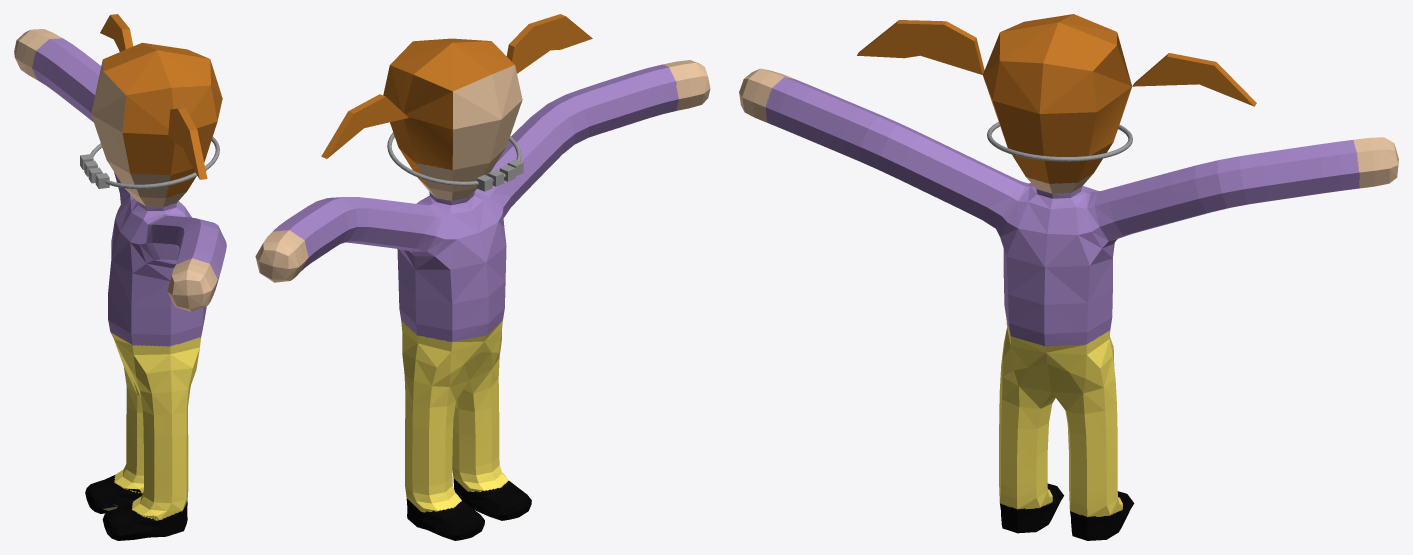
Rendered from nemo_girl.obj.
3 renders of one model, left to right at view 1: azimuth 30°, elevation 25°; view 2: azimuth 150°, elevation 25°; view 3: azimuth 270°, elevation 25°, orthographic. The views are drawn at different scales.
Visible parts, largest first — view 1: Plane.001; view 2: Plane.001; view 3: Plane.001.
Part boxes in pixels (x1,y1,x2,y2): Plane.001: [14, 14, 226, 540]; Plane.001: [255, 14, 710, 540]; Plane.001: [739, 14, 1398, 540].
Size of the model in its own units: 1.53 by 3.81 by 4.47.
